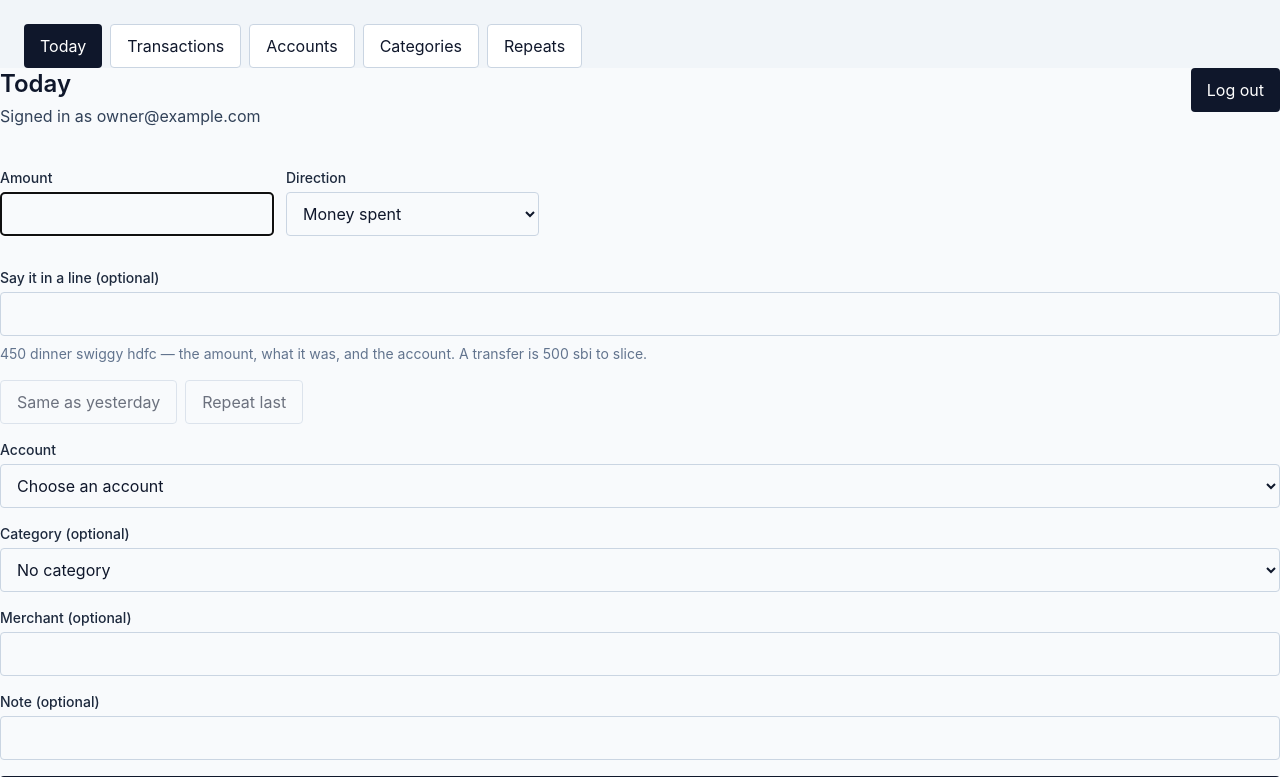
Test: App › moves between the screens from the tabs
Click the button "Accounts": (302,46) [249,24,355,68]
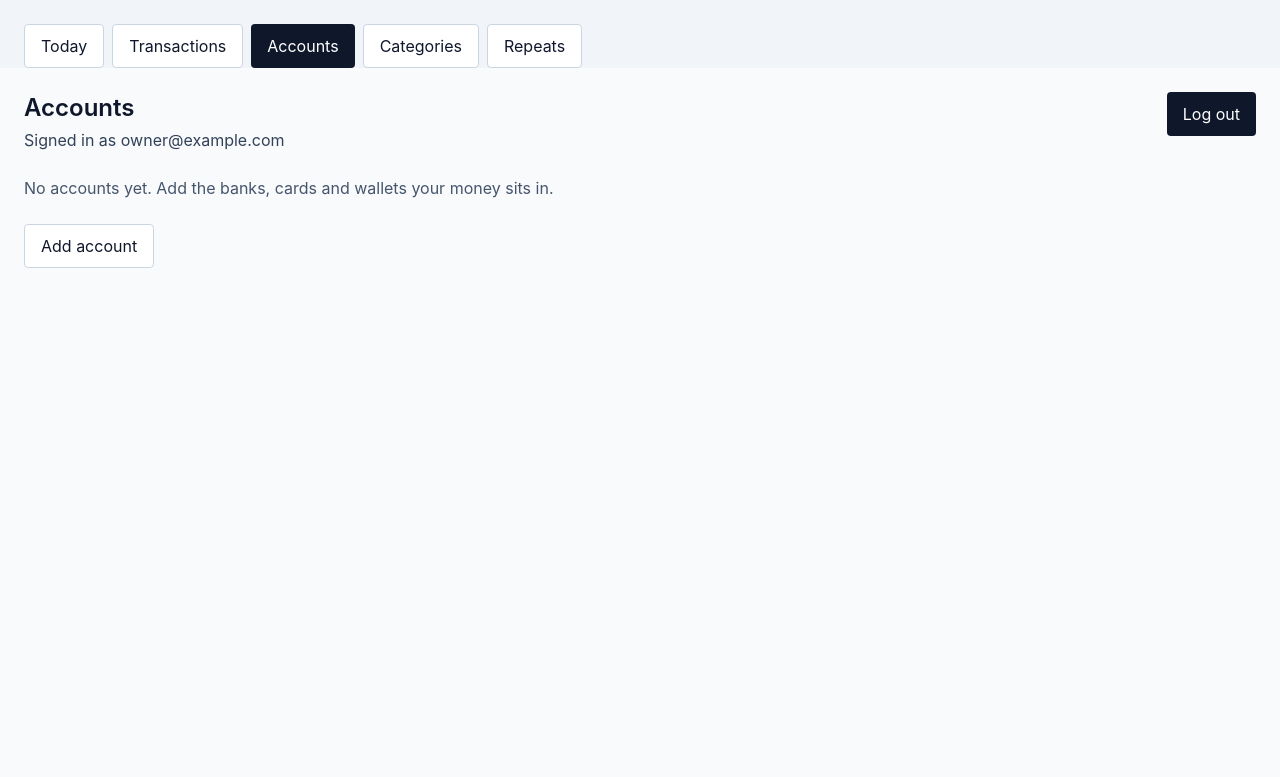
expect the heading "Accounts" is shown: met, box [24,93,134,122]
Click the button "Categories": (421,46) [363,24,479,68]
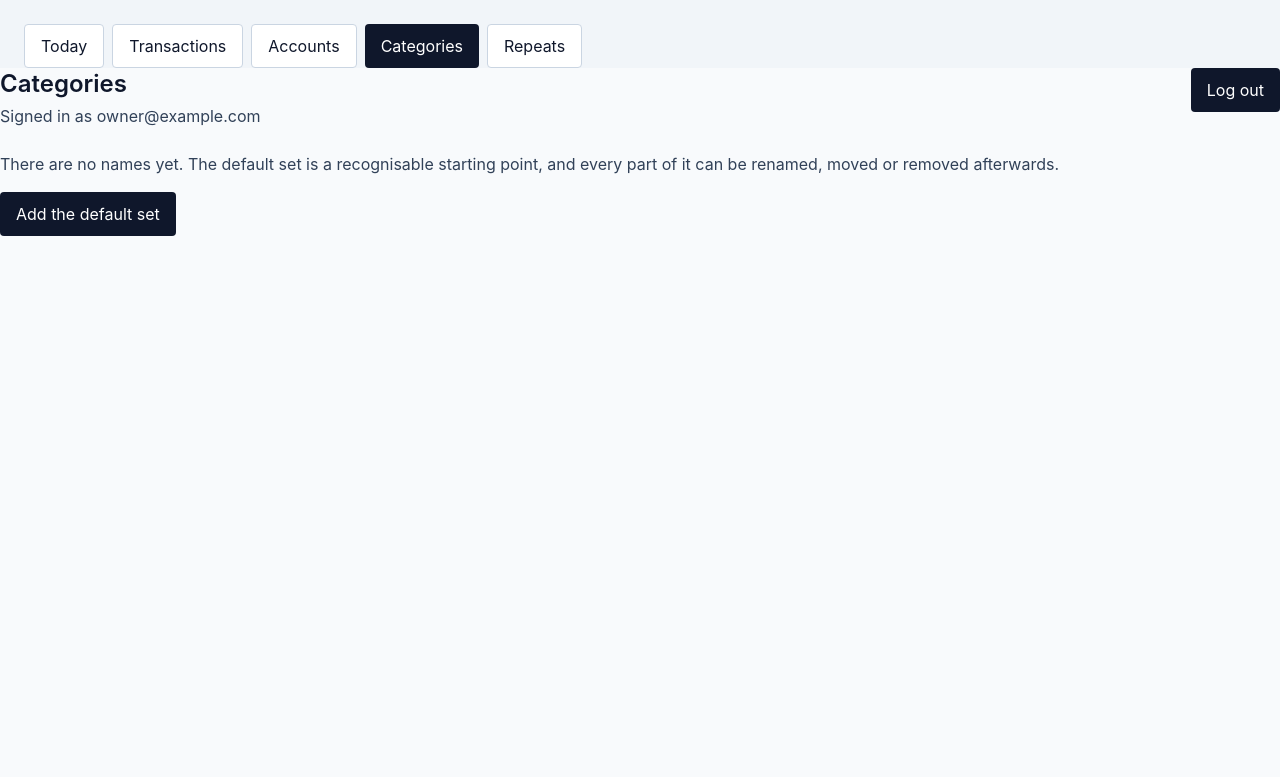
expect the heading "Categories" is shown: met, box [0,69,127,98]
Click the button "Transactions": (178,46) [112,24,243,68]
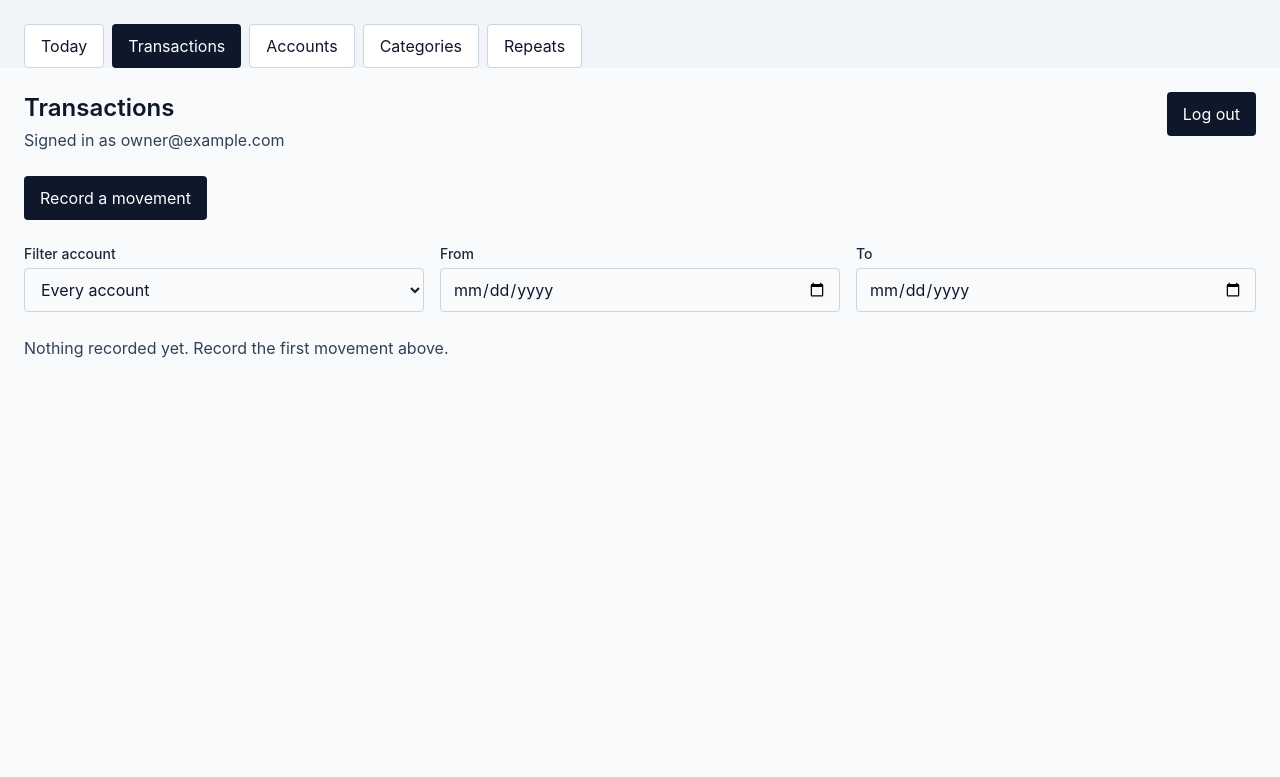
expect the heading "Transactions" is shown: met, box [24,93,174,122]
Click the button "Categories": (421,46) [363,24,479,68]
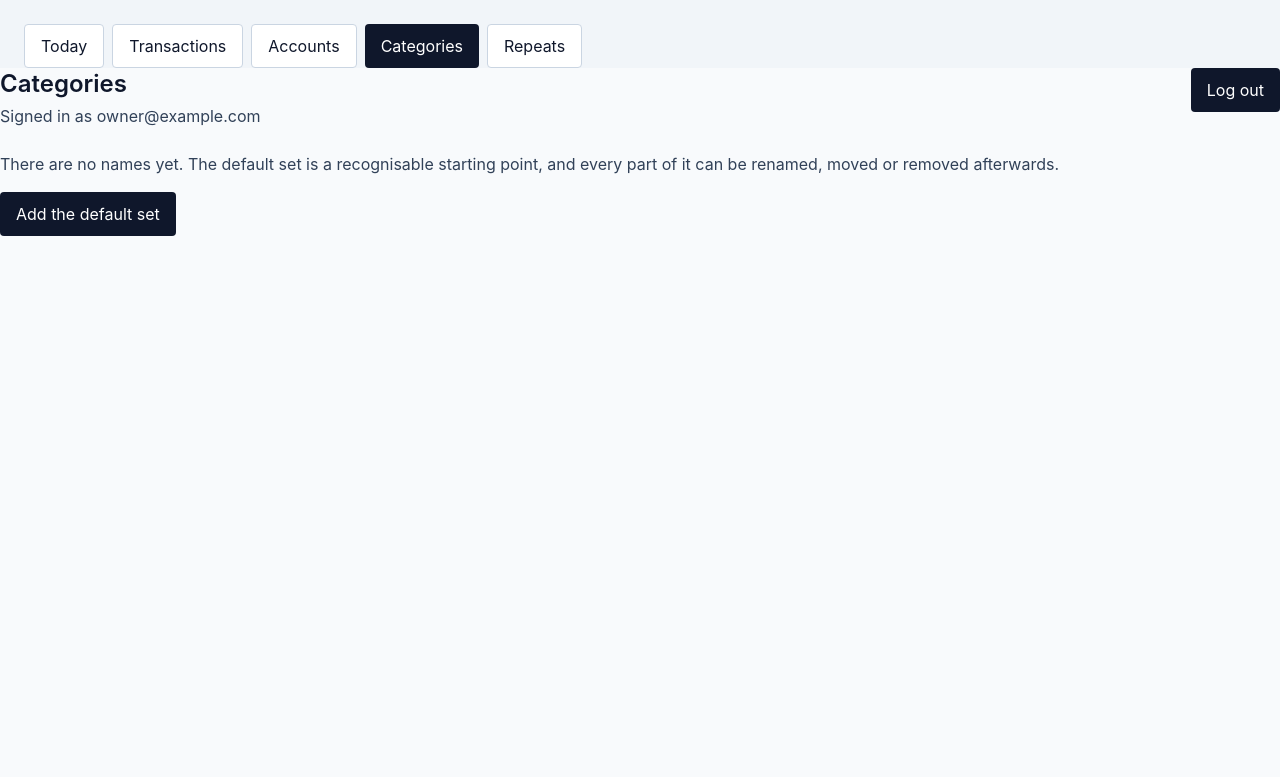
expect the heading "Categories" is shown: met, box [0,69,127,98]
